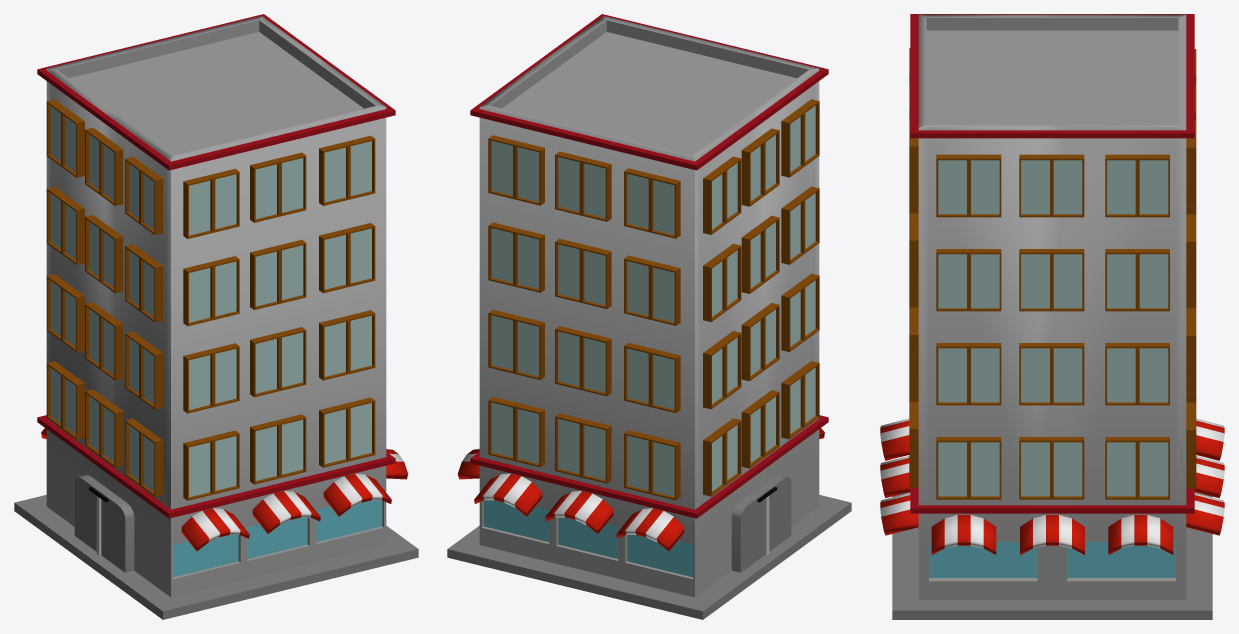
The model's file is House6.fbx.
The picture shows the model from 3 angles, left to right: view 1: azimuth 30°, elevation 25°; view 2: azimuth 150°, elevation 25°; view 3: azimuth 270°, elevation 25°; orthographic projection. The views are drawn at different scales.
Parts seen in each view (by area): view 1: House.006; view 2: House.006; view 3: House.006.
Part boxes in pixels (x1=…): House.006: x1=14, y1=14, x2=418, y2=619; House.006: x1=447, y1=14, x2=851, y2=619; House.006: x1=880, y1=14, x2=1224, y2=619.
Bounding box in the file's own units: 1022 × 1638 × 1063.
